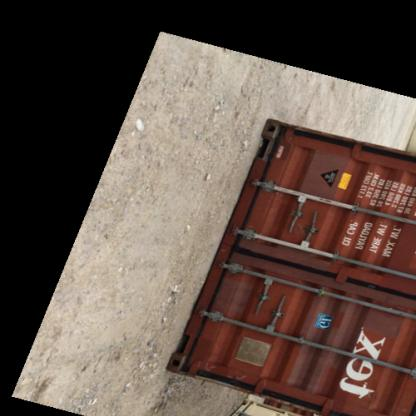Damage: (206, 358, 258, 392)
